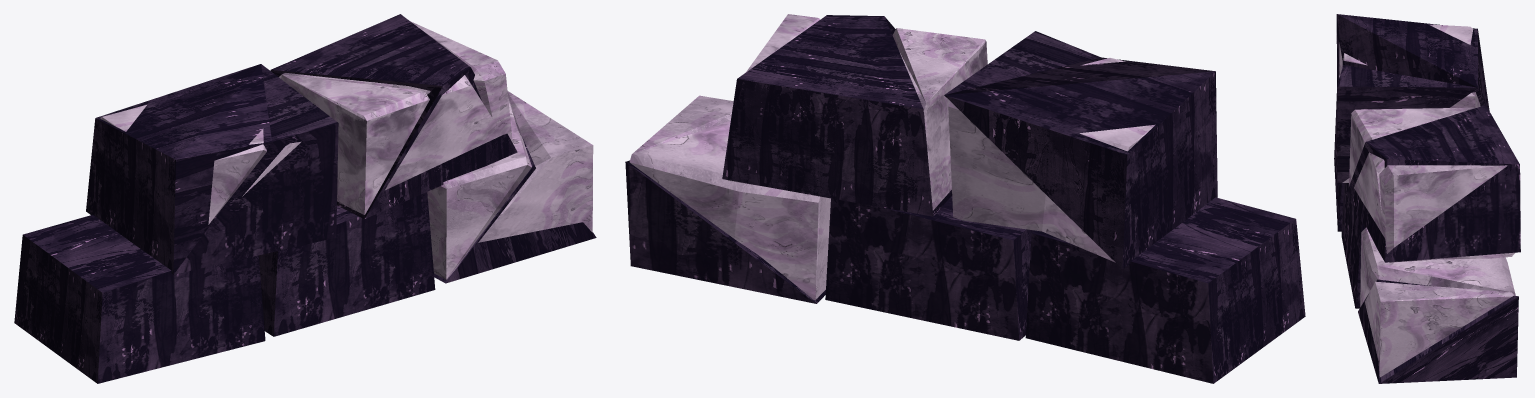
The model's file is Str_Ruins_05_Art.glb.
The picture shows the model from 3 angles, left to right: view 1: azimuth 30°, elevation 25°; view 2: azimuth 150°, elevation 25°; view 3: azimuth 270°, elevation 25°; orthographic projection. The views are drawn at different scales.
Parts seen in each view (by area): view 1: Str_Ruins_05_Art; view 2: Str_Ruins_05_Art; view 3: Str_Ruins_05_Art.
Boxes of the visible parts, bbox=[...] form: Str_Ruins_05_Art: bbox=[14, 14, 596, 383]; Str_Ruins_05_Art: bbox=[625, 14, 1305, 383]; Str_Ruins_05_Art: bbox=[1334, 14, 1520, 383].
Size of what is drawn, in the model's own units: 3.26 by 1.22 by 1.14.
2 materials, 2 textured.
